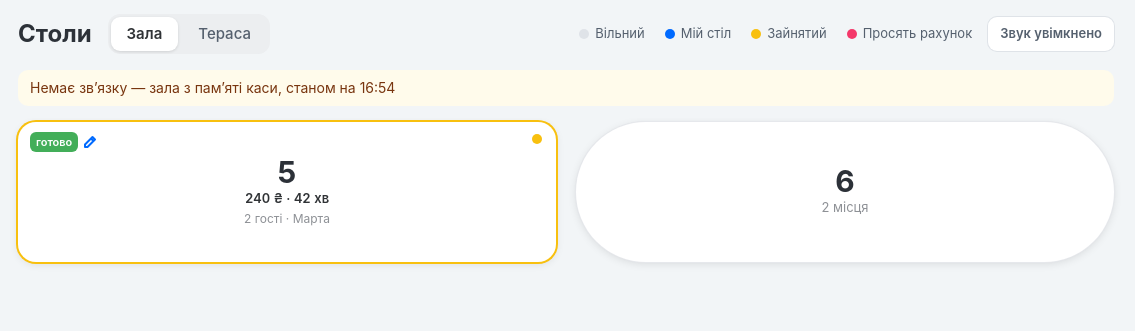
Test: HallMapPage › still refuses to seat a table without the network
Click the button with test id "table-tile-12" at (845, 192), box [576,122,1114,262]
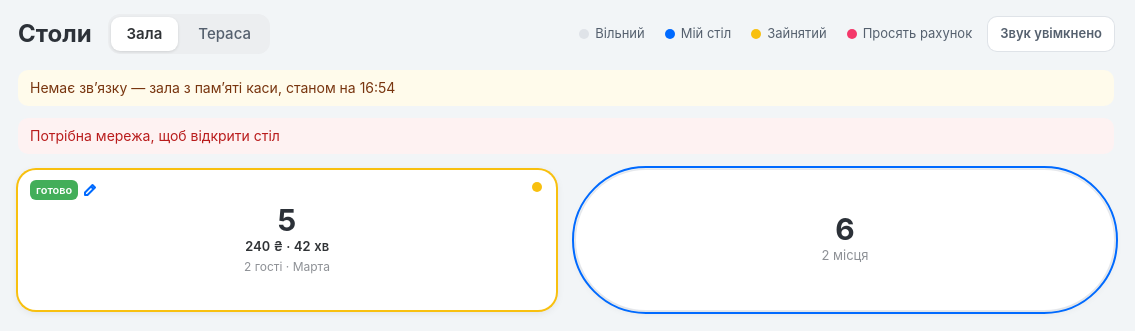
Check: the text with test id "tables-banner" shows "Потрібна мережа", box [30,127,280,144]
